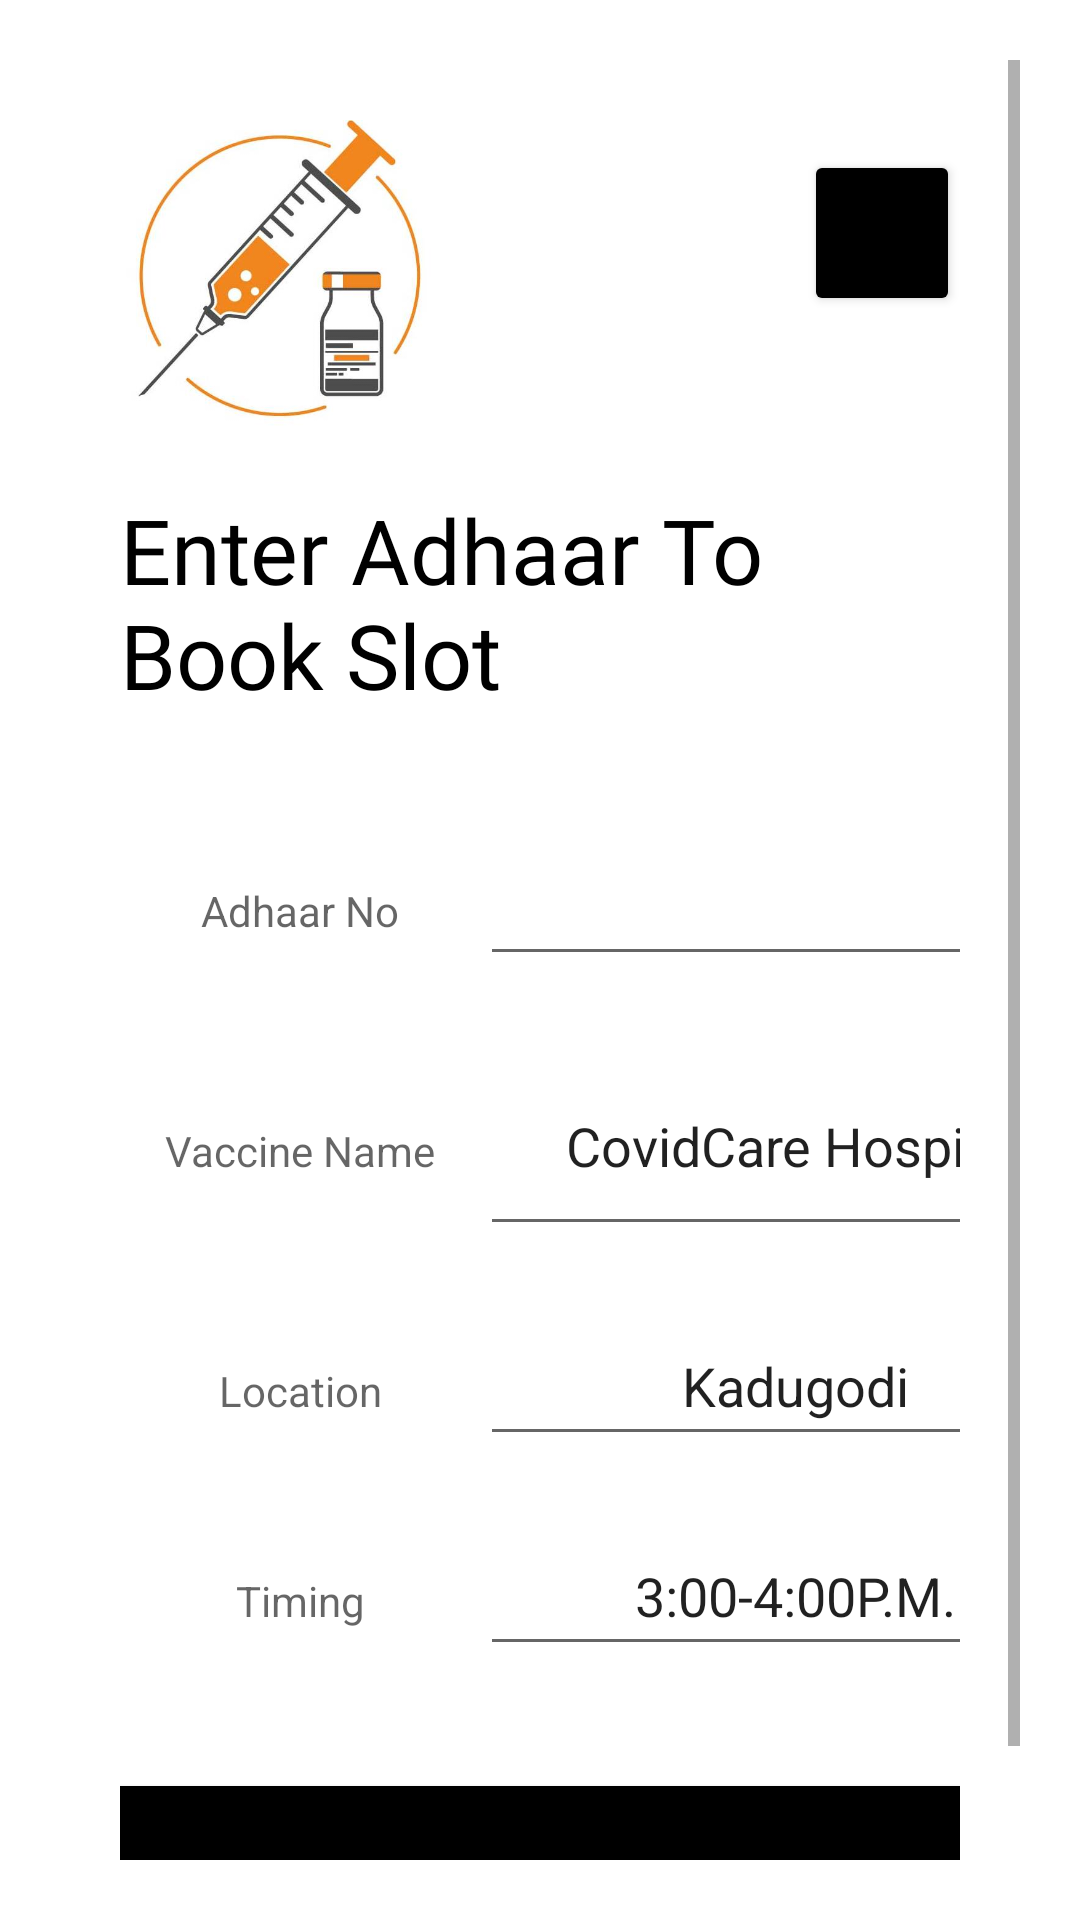

Screen size 1080×1920. Icon name, then its center in pixels as [x,y]:
vacbacrop: [279,268]
